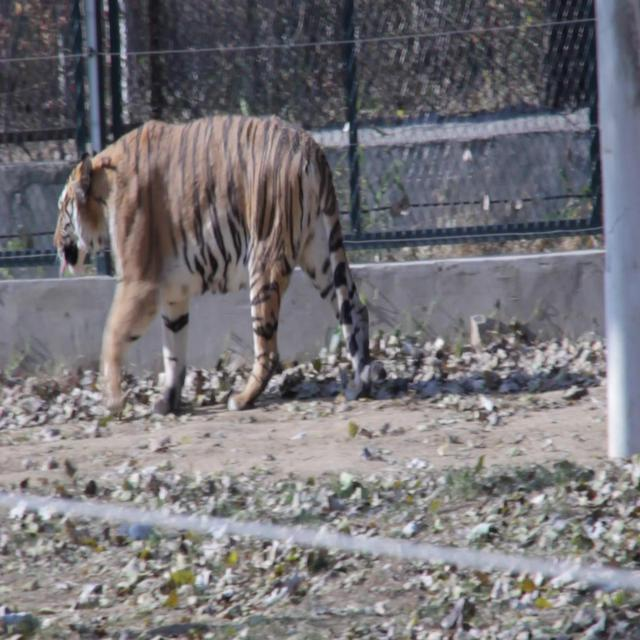tiger: (52, 112, 377, 417)
